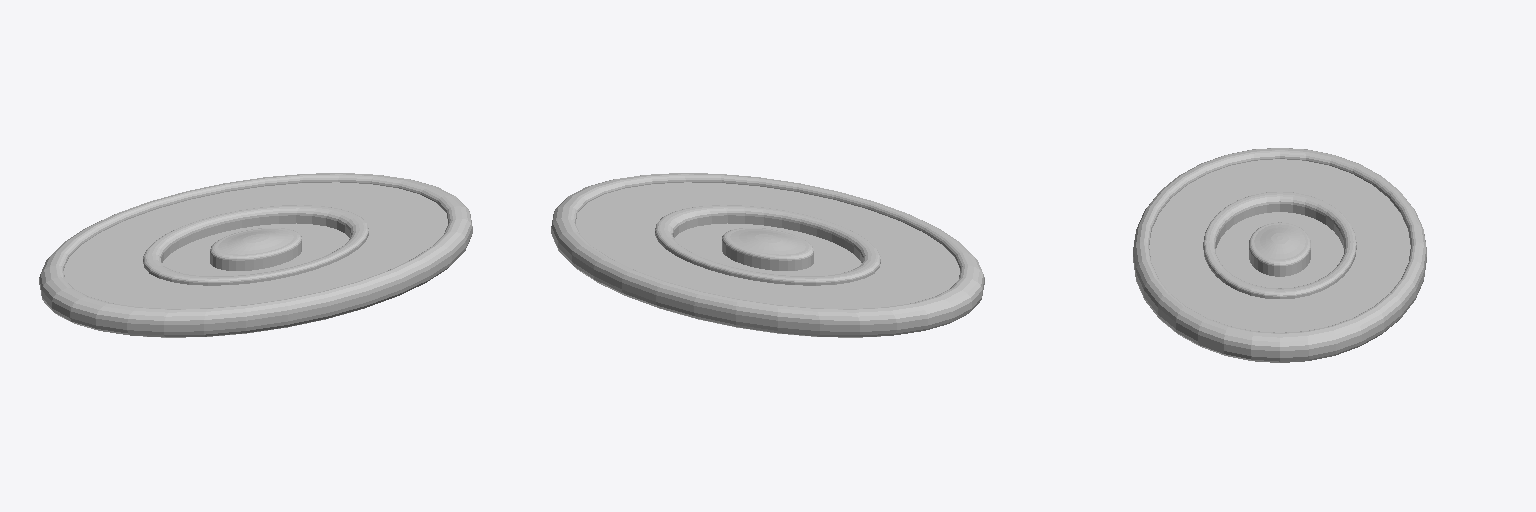
File: cooloval.obj
The picture shows the model from 3 angles: view 1: azimuth 30°, elevation 25°; view 2: azimuth 150°, elevation 25°; view 3: azimuth 270°, elevation 25°; orthographic projection.
Visible parts, largest first — view 1: Cylinder; view 2: Cylinder; view 3: Cylinder.
Part boxes in pixels (x1,y1,x2,y2): Cylinder: (39, 173, 472, 337); Cylinder: (551, 173, 984, 337); Cylinder: (1133, 148, 1426, 362).
Bounding box in the file's own units: 3.2 × 0.2687 × 2.